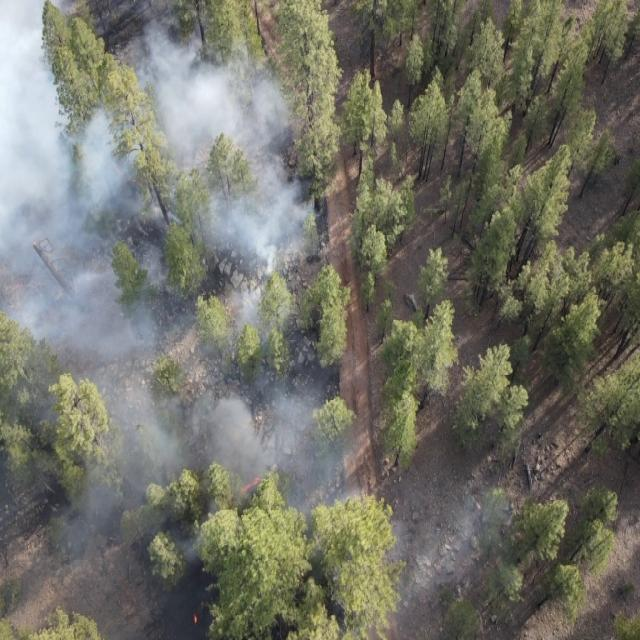fire: (241, 474, 263, 494), (192, 614, 200, 628)
smoke: (0, 0, 313, 270), (0, 271, 335, 505), (33, 507, 229, 585), (379, 502, 492, 606)
